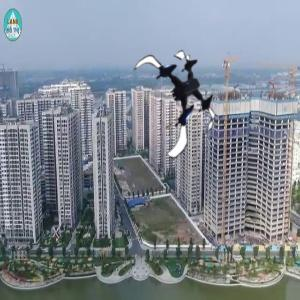drone: (126, 43, 230, 147)
